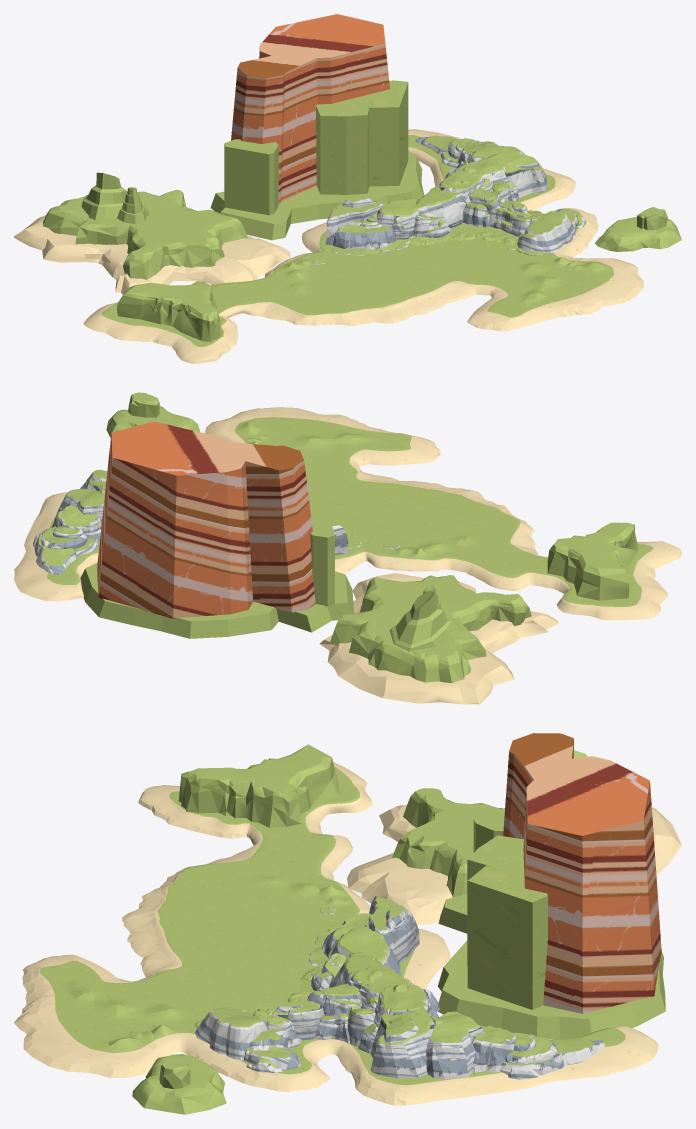
Rendered from island_06.fbx.
The picture shows the model from 3 angles, top to bottom: view 1: azimuth 30°, elevation 25°; view 2: azimuth 150°, elevation 25°; view 3: azimuth 270°, elevation 25°; orthographic projection. The views are drawn at different scales.
Visible parts, largest first — view 1: PM3D_island_07:Group15861, DarkM, polySurface6, polySurface13, polySurface3, polySurface2, polySurface11, polySurface14, pasted__huitugou_2315_665, samor_1090_633, polySurface4, pasted__huitugou_2315_598 (+12 smaller); view 2: DarkM, PM3D_island_07:Group15861, polySurface6, polySurface3, polySurface2, polySurface11, pasted__huitugou_2315_669, samor_1090_633, polySurface14, polySurface4, pasted__huitugou_2315_668, polySurface8; view 3: PM3D_island_07:Group15861, DarkM, polySurface13, polySurface11, polySurface2, polySurface3, polySurface6, pasted__huitugou_2315_669, pasted__huitugou_2315_593, polySurface4, pasted__huitugou_2315_668, pasted__huitugou_2315_665 (+13 smaller).
Boxes of the visible parts, x1=… form: PM3D_island_07:Group15861: x1=83, y1=129, x2=644, y2=363; DarkM: x1=231, y1=14, x2=389, y2=204; polySurface6: x1=43, y1=190, x2=248, y2=279; polySurface13: x1=316, y1=80, x2=408, y2=194; polySurface3: x1=14, y1=207, x2=290, y2=294; polySurface2: x1=210, y1=151, x2=424, y2=240; polySurface11: x1=116, y1=281, x2=223, y2=341; polySurface14: x1=224, y1=139, x2=278, y2=215; pasted__huitugou_2315_665: x1=325, y1=197, x2=396, y2=249; samor_1090_633: x1=81, y1=172, x2=149, y2=224; polySurface4: x1=595, y1=216, x2=681, y2=251; pasted__huitugou_2315_598: x1=517, y1=213, x2=576, y2=252; DarkM: x1=97, y1=421, x2=315, y2=618; PM3D_island_07:Group15861: x1=14, y1=407, x2=681, y2=620; polySurface6: x1=330, y1=575, x2=531, y2=682; polySurface3: x1=319, y1=573, x2=558, y2=704; polySurface2: x1=80, y1=562, x2=354, y2=638; polySurface11: x1=547, y1=522, x2=638, y2=600; pasted__huitugou_2315_669: x1=33, y1=505, x2=101, y2=574; samor_1090_633: x1=389, y1=585, x2=459, y2=651; polySurface14: x1=310, y1=512, x2=334, y2=606; polySurface4: x1=106, y1=406, x2=200, y2=437; pasted__huitugou_2315_668: x1=54, y1=488, x2=104, y2=529; polySurface8: x1=128, y1=392, x2=159, y2=417; PM3D_island_07:Group15861: x1=14, y1=762, x2=658, y2=1105; DarkM: x1=503, y1=733, x2=661, y2=1013; polySurface13: x1=467, y1=835, x2=547, y2=1009; polySurface11: x1=178, y1=744, x2=339, y2=827; polySurface2: x1=437, y1=894, x2=665, y2=1038; polySurface3: x1=347, y1=804, x2=681, y2=925; polySurface6: x1=392, y1=788, x2=504, y2=897; pasted__huitugou_2315_669: x1=472, y1=1025, x2=605, y2=1079; pasted__huitugou_2315_593: x1=358, y1=1006, x2=442, y2=1078; polySurface4: x1=132, y1=1054, x2=226, y2=1114; pasted__huitugou_2315_668: x1=426, y1=1011, x2=484, y2=1079; pasted__huitugou_2315_665: x1=322, y1=896, x2=419, y2=963.
Size of the model in its own units: 33978 by 8654 by 26621.
